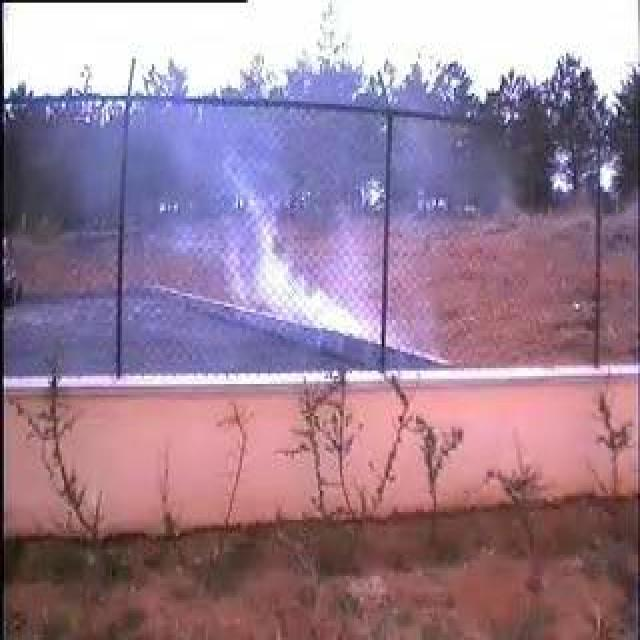Smoke: (169, 118, 385, 342)
